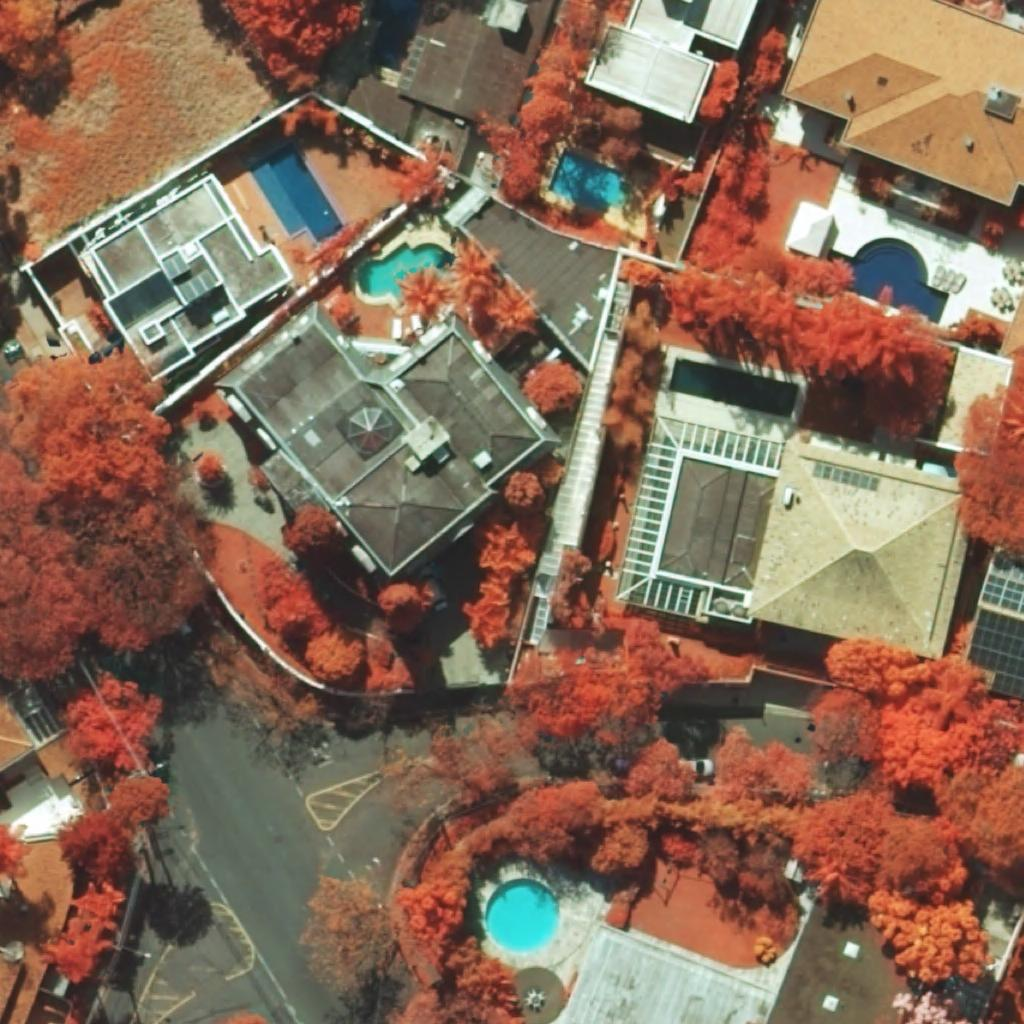pool: (829, 237, 950, 325), (248, 141, 343, 243), (484, 878, 560, 954), (358, 241, 457, 298), (548, 148, 630, 213)
